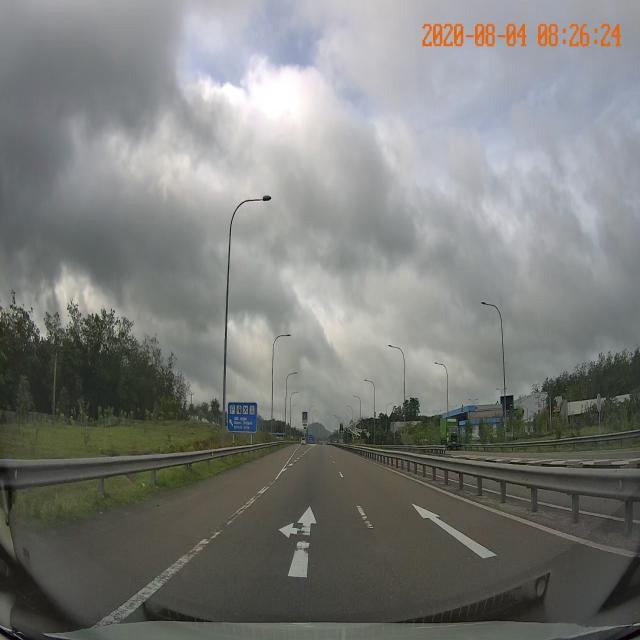forward_lft: (149, 477, 415, 592)
